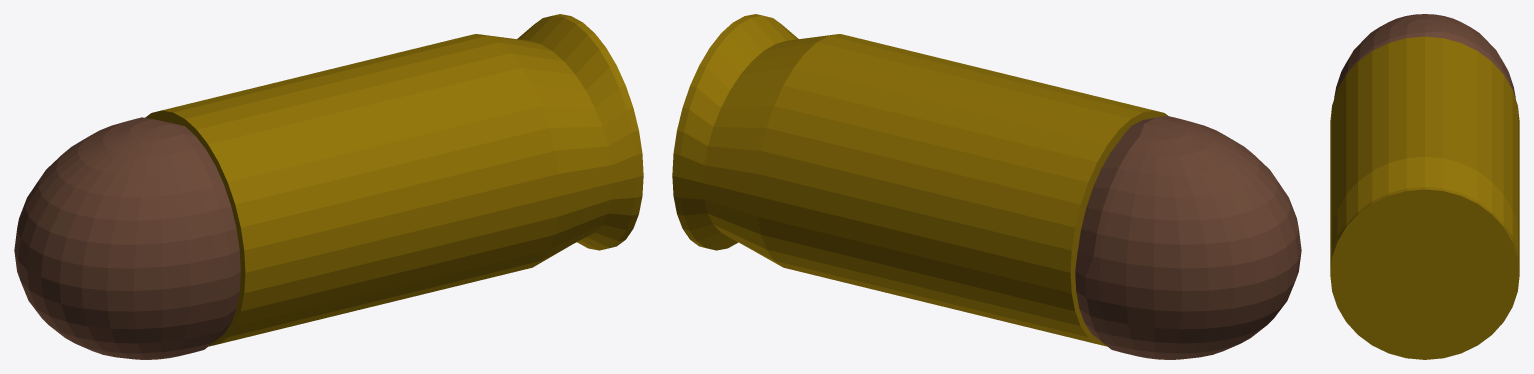
Rendered from 45-acp.fbx.
The picture shows the model from 3 angles, left to right: view 1: azimuth 30°, elevation 25°; view 2: azimuth 150°, elevation 25°; view 3: azimuth 270°, elevation 25°; orthographic projection. The views are drawn at different scales.
Visible parts, largest first — view 1: Casing, Bullet Tip; view 2: Casing, Bullet Tip; view 3: Casing, Bullet Tip.
Part boxes in pixels (x1,y1,x2,y2): Casing: (145,14,643,346); Bullet Tip: (14,117,240,359); Casing: (672,14,1167,346); Bullet Tip: (1075,115,1301,359); Casing: (1330,36,1519,359); Bullet Tip: (1334,14,1515,98).
Bounding box in the file's own units: 425 × 162 × 160.
